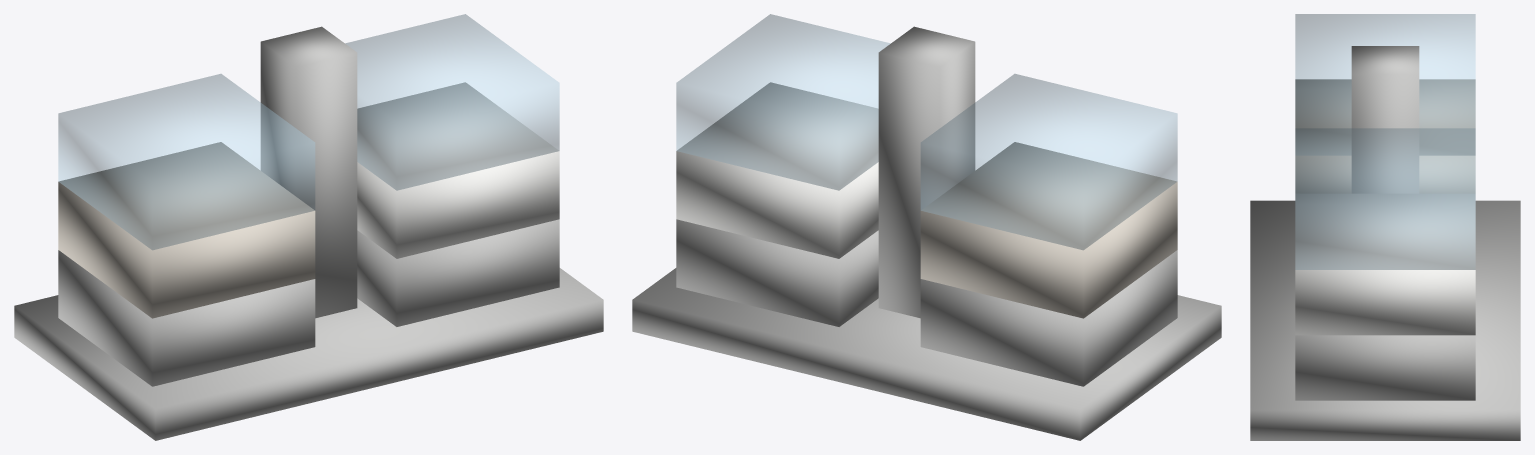
The model's file is TestBuilding.glb.
The picture shows the model from 3 angles, left to right: view 1: azimuth 30°, elevation 25°; view 2: azimuth 150°, elevation 25°; view 3: azimuth 270°, elevation 25°; orthographic projection. The views are drawn at different scales.
Parts seen in each view (by area): view 1: Podium, Zone_A_L2, Zone_A_L3, Zone_B_L2, Zone_B_L3, Core, Zone_A_L1, Zone_B_L1; view 2: Podium, Zone_A_L2, Zone_A_L3, Zone_B_L2, Zone_B_L3, Core, Zone_A_L1, Zone_B_L1; view 3: Podium, Zone_B_L2, Zone_B_L3, Zone_A_L3, Zone_A_L2, Zone_B_L1, Core.
Part boxes in pixels (left/top/right/bottom): Podium: left=14, top=268, right=603, bottom=440; Zone_A_L2: left=58, top=142, right=315, bottom=318; Zone_A_L3: left=58, top=74, right=314, bottom=249; Zone_B_L2: left=357, top=82, right=559, bottom=258; Zone_B_L3: left=345, top=14, right=559, bottom=190; Core: left=260, top=26, right=357, bottom=318; Zone_A_L1: left=58, top=250, right=315, bottom=386; Zone_B_L1: left=357, top=219, right=559, bottom=326; Podium: left=632, top=268, right=1221, bottom=440; Zone_A_L2: left=920, top=142, right=1177, bottom=318; Zone_A_L3: left=921, top=74, right=1177, bottom=249; Zone_B_L2: left=676, top=82, right=878, bottom=258; Zone_B_L3: left=676, top=14, right=890, bottom=190; Core: left=878, top=26, right=975, bottom=318; Zone_A_L1: left=920, top=250, right=1177, bottom=386; Zone_B_L1: left=676, top=219, right=878, bottom=326; Podium: left=1250, top=200, right=1520, bottom=440; Zone_B_L2: left=1295, top=193, right=1475, bottom=335; Zone_B_L3: left=1295, top=128, right=1475, bottom=269; Zone_A_L3: left=1295, top=14, right=1475, bottom=155; Zone_A_L2: left=1295, top=79, right=1475, bottom=193; Zone_B_L1: left=1295, top=335, right=1475, bottom=400; Core: left=1351, top=46, right=1419, bottom=193.
Bounding box in the file's own units: 22 × 13.5 × 12.
